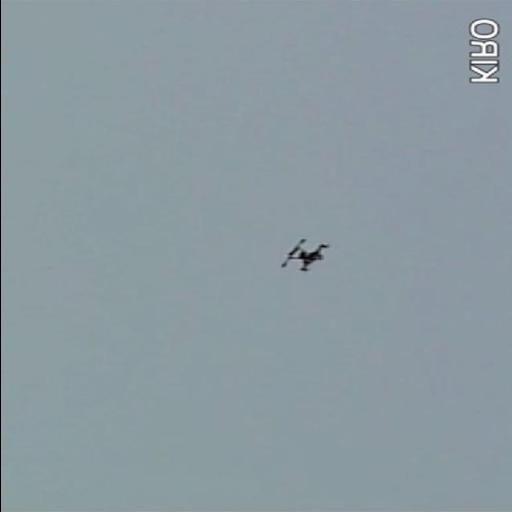uav: (274, 237, 330, 275)
